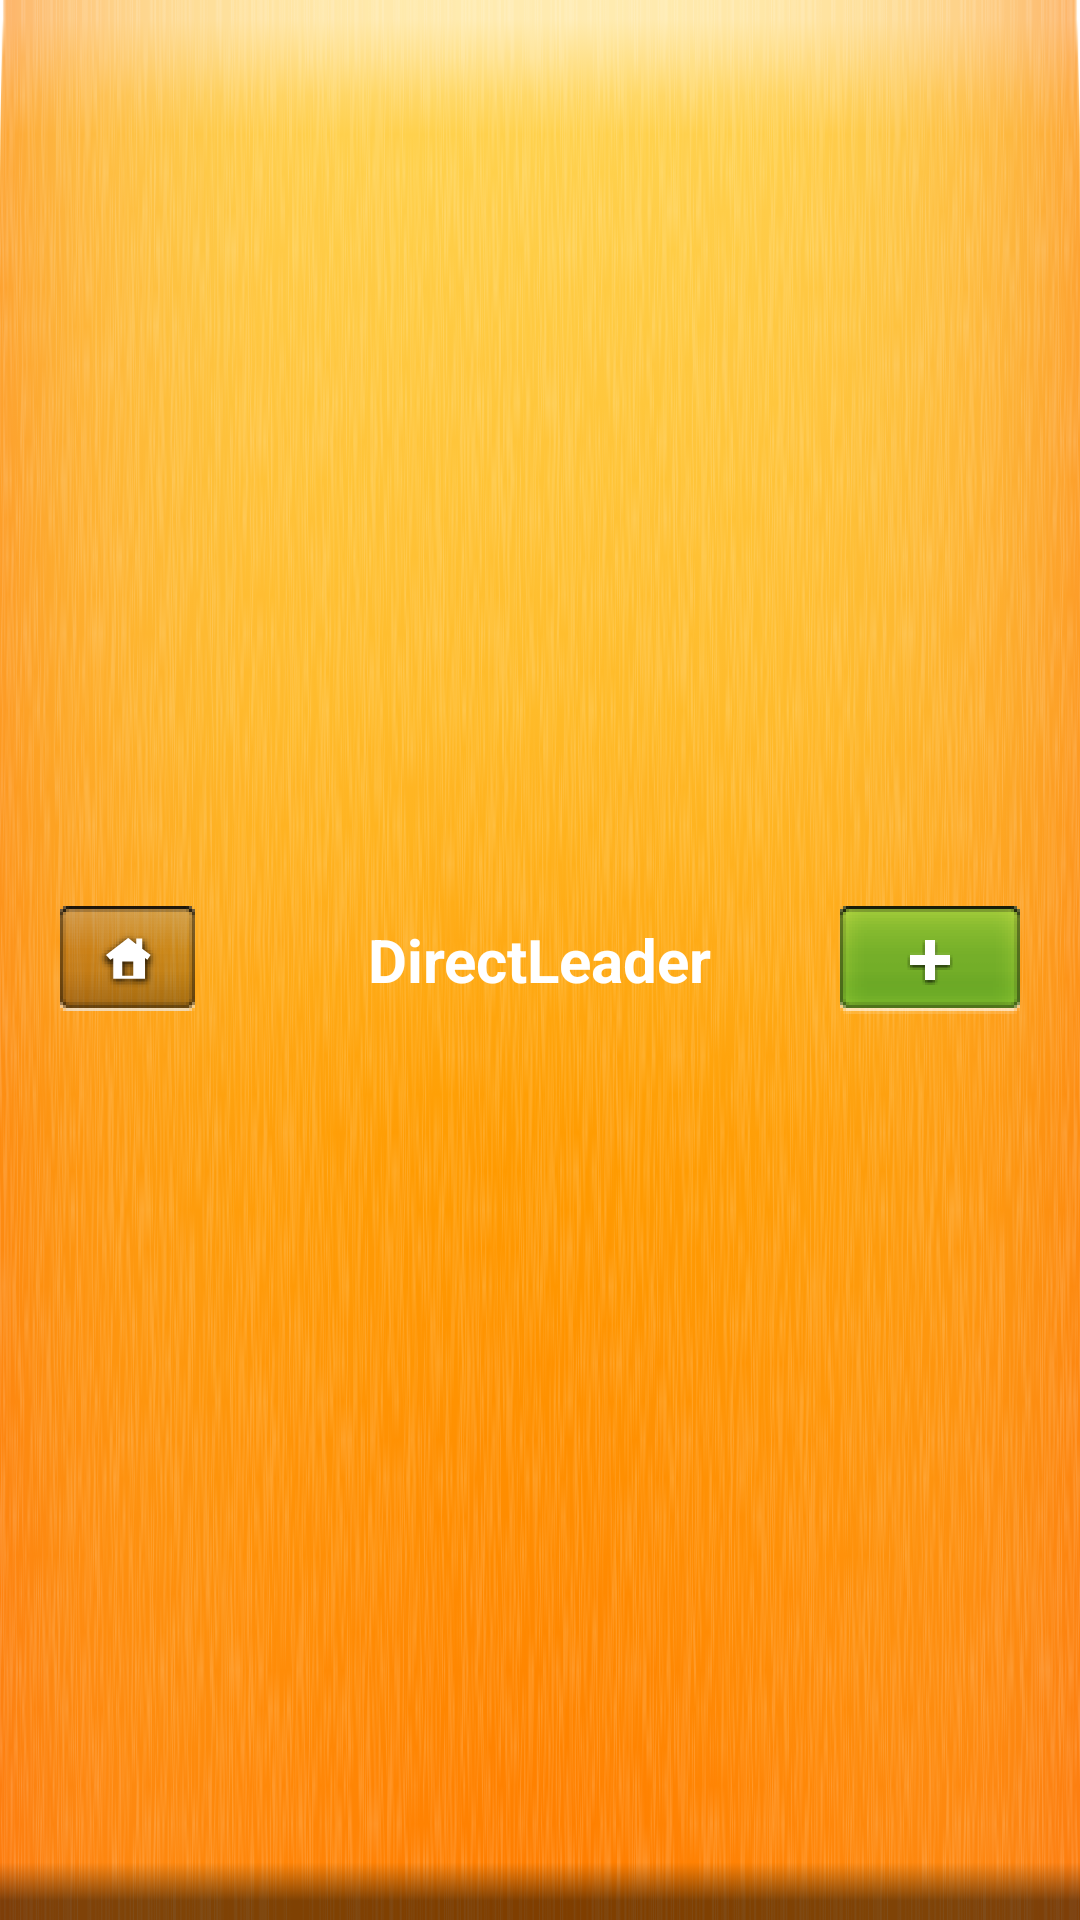

Where icons sit on this 1080x1920 app screen, as (x1, y1, x2, y2):
home: (60, 906, 195, 1011)
